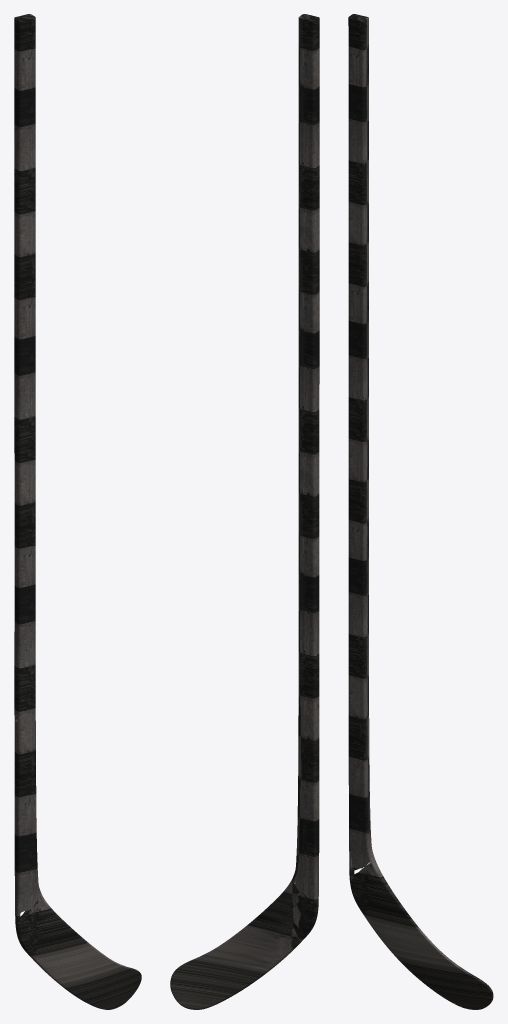
Rendered from P29M-ST-LIE5_0.glb.
The picture shows the model from 3 angles, left to right: view 1: azimuth 30°, elevation 25°; view 2: azimuth 150°, elevation 25°; view 3: azimuth 330°, elevation 25°; orthographic projection. The views are drawn at different scales.
Visible parts, largest first — view 1: geometry_0; view 2: geometry_0; view 3: geometry_0.
Boxes of the visible parts, left/top/right/bottom form: geometry_0: left=14, top=14, right=141, bottom=1009; geometry_0: left=170, top=14, right=319, bottom=1009; geometry_0: left=348, top=14, right=493, bottom=1009.
Bounding box in the file's own units: 232 × 1650 × 55.11.
1 material, 1 textured.
